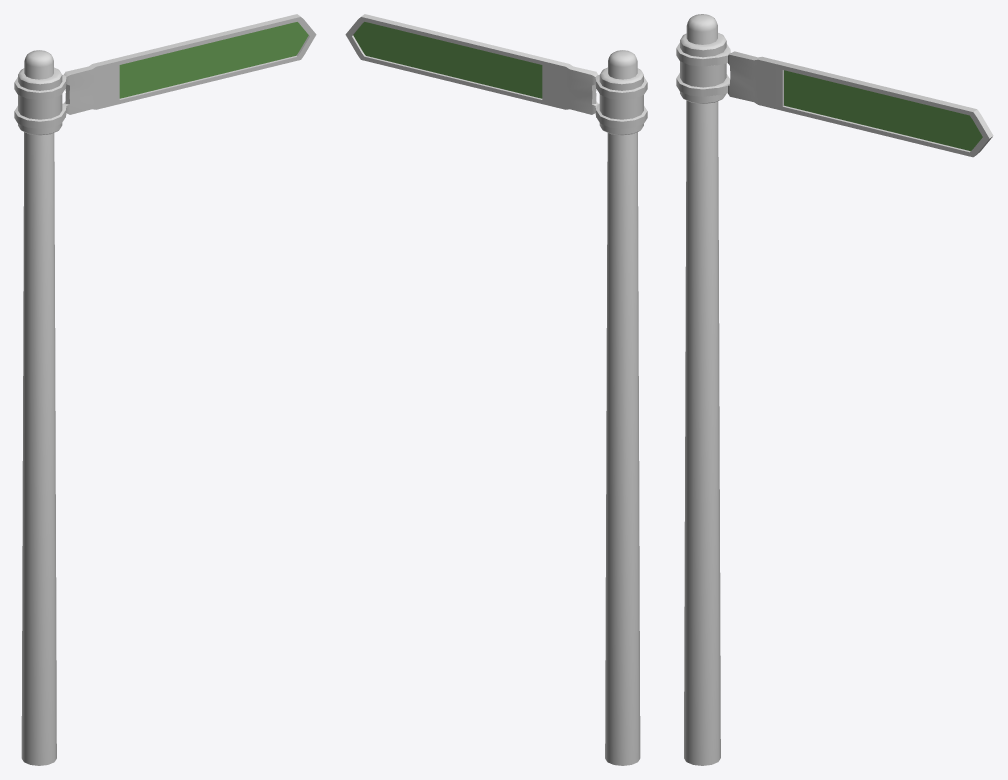
Rendered from SignPost.fbx.
3 renders of one model, left to right at view 1: azimuth 30°, elevation 25°; view 2: azimuth 150°, elevation 25°; view 3: azimuth 330°, elevation 25°, orthographic. The views are drawn at different scales.
Parts seen in each view (by area): view 1: Sign1; view 2: Sign1; view 3: Sign1.
Part boxes in pixels (bbox=[...]): Sign1: bbox=[14, 14, 316, 765]; Sign1: bbox=[345, 14, 647, 765]; Sign1: bbox=[676, 14, 993, 765].
Size of the model in its own units: 159 by 360 by 23.43.
